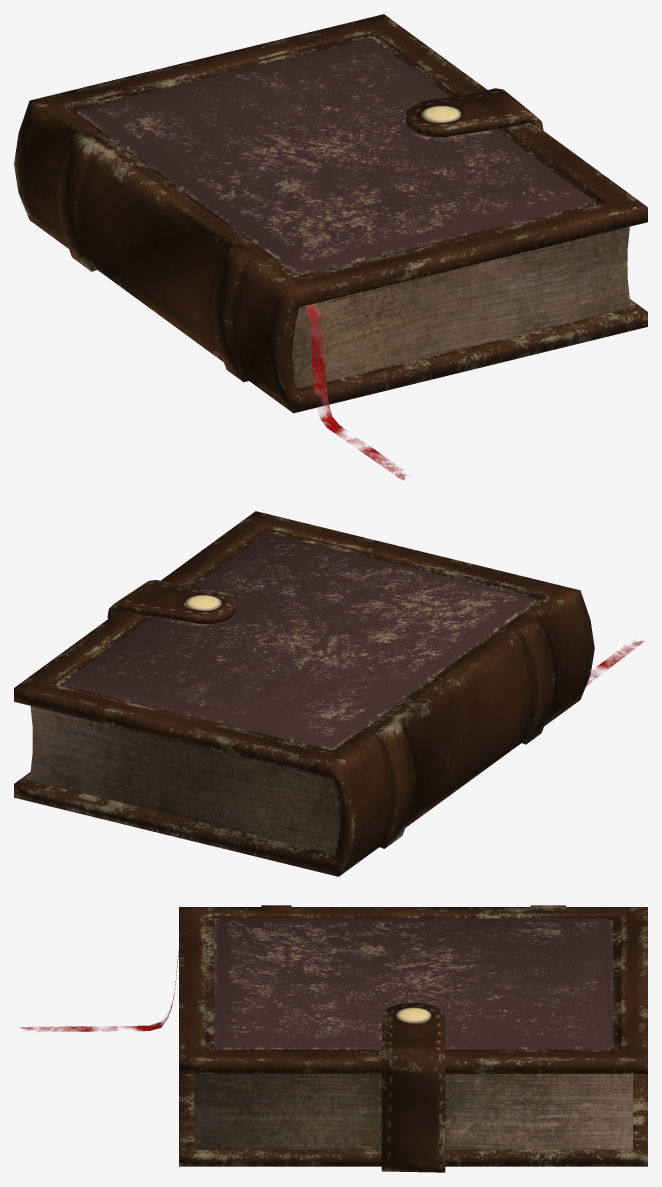
Rendered from book_leather.glb.
The picture shows the model from 3 angles, top to bottom: view 1: azimuth 30°, elevation 25°; view 2: azimuth 150°, elevation 25°; view 3: azimuth 270°, elevation 25°; orthographic projection. The views are drawn at different scales.
Visible parts, largest first — view 1: Book_low_Book_0; view 2: Book_low_Book_0; view 3: Book_low_Book_0.
Part boxes in pixels (x1,y1,x2,y2): Book_low_Book_0: (14, 14, 647, 480); Book_low_Book_0: (14, 511, 644, 876); Book_low_Book_0: (19, 905, 647, 1172).
Size of the model in its own units: 338 by 123 by 541.
1 material, 1 textured.
